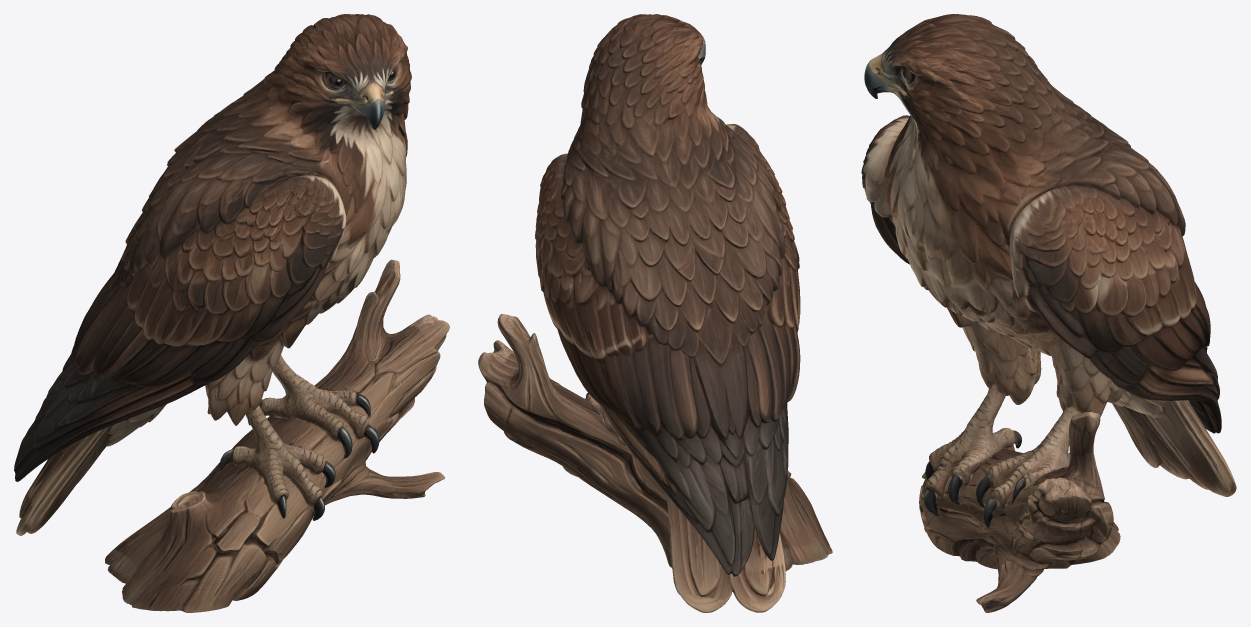
Rendered from Hawk.glb.
3 views of the same model, side by side, from view 1: azimuth 30°, elevation 25°; view 2: azimuth 150°, elevation 25°; view 3: azimuth 270°, elevation 25° (orthographic). The views are drawn at different scales.
Visible parts, largest first — view 1: output_unwrapped; view 2: output_unwrapped; view 3: output_unwrapped.
Boxes of the visible parts, left/top/right/bottom form: output_unwrapped: left=14, top=14, right=449, bottom=612; output_unwrapped: left=478, top=14, right=832, bottom=612; output_unwrapped: left=861, top=14, right=1236, bottom=612.
Bounding box in the file's own units: 1.39 × 1.9 × 1.11.
Materials: 1 (1 with a texture image).
